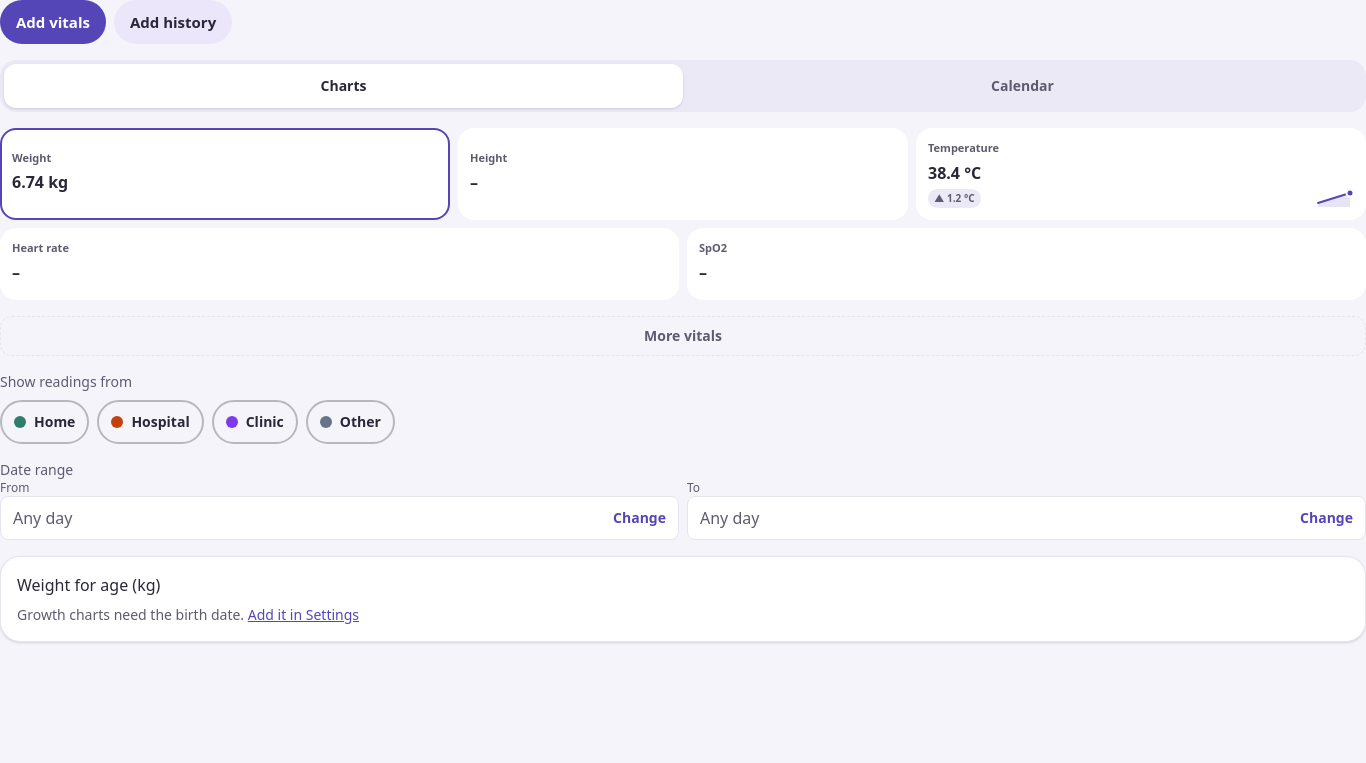
a measurement chip keeps only the days it was taken; a place chip hides that place
This screenshot has width=1366, height=763.
Click the radio button labelled "Calendar". click: [1022, 86]
box: [683, 64, 1362, 108]
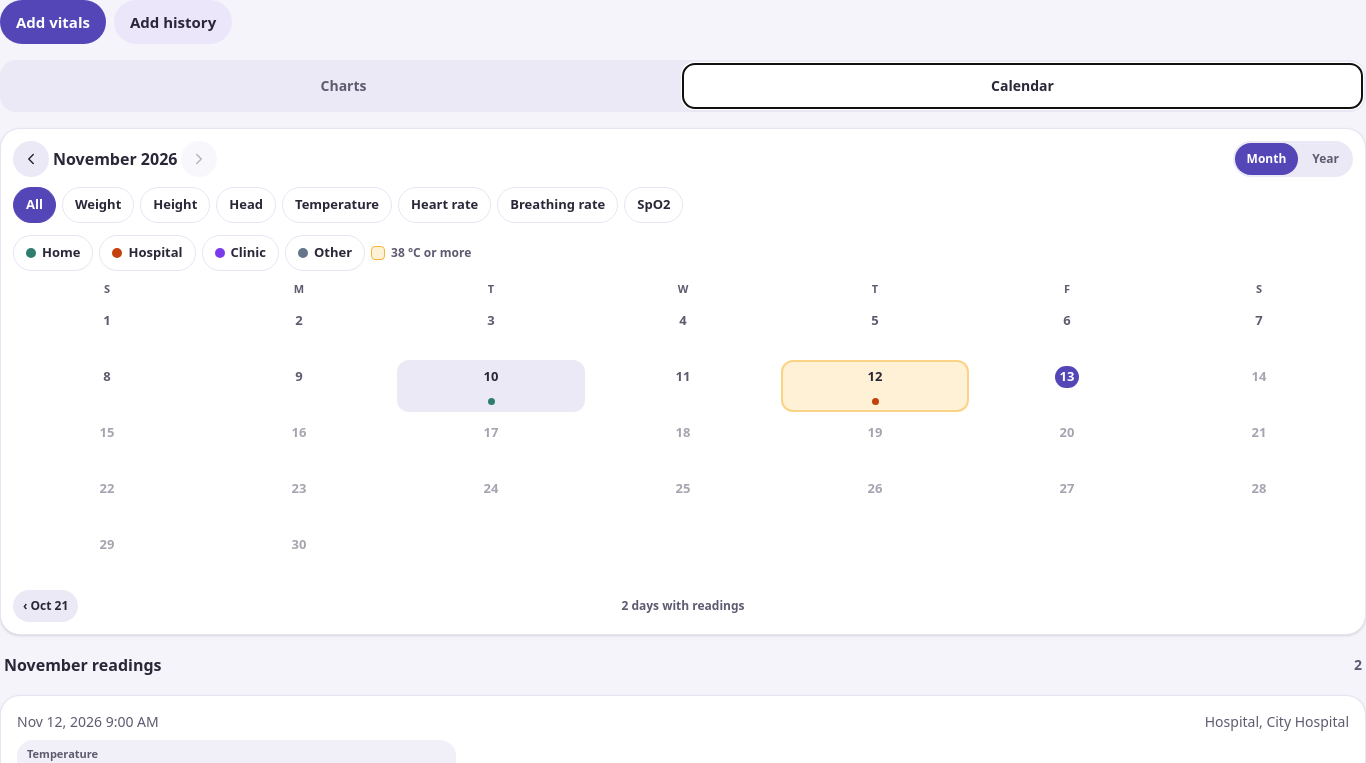
Click the button "Temperature". click: [337, 205]
box: [282, 187, 392, 223]
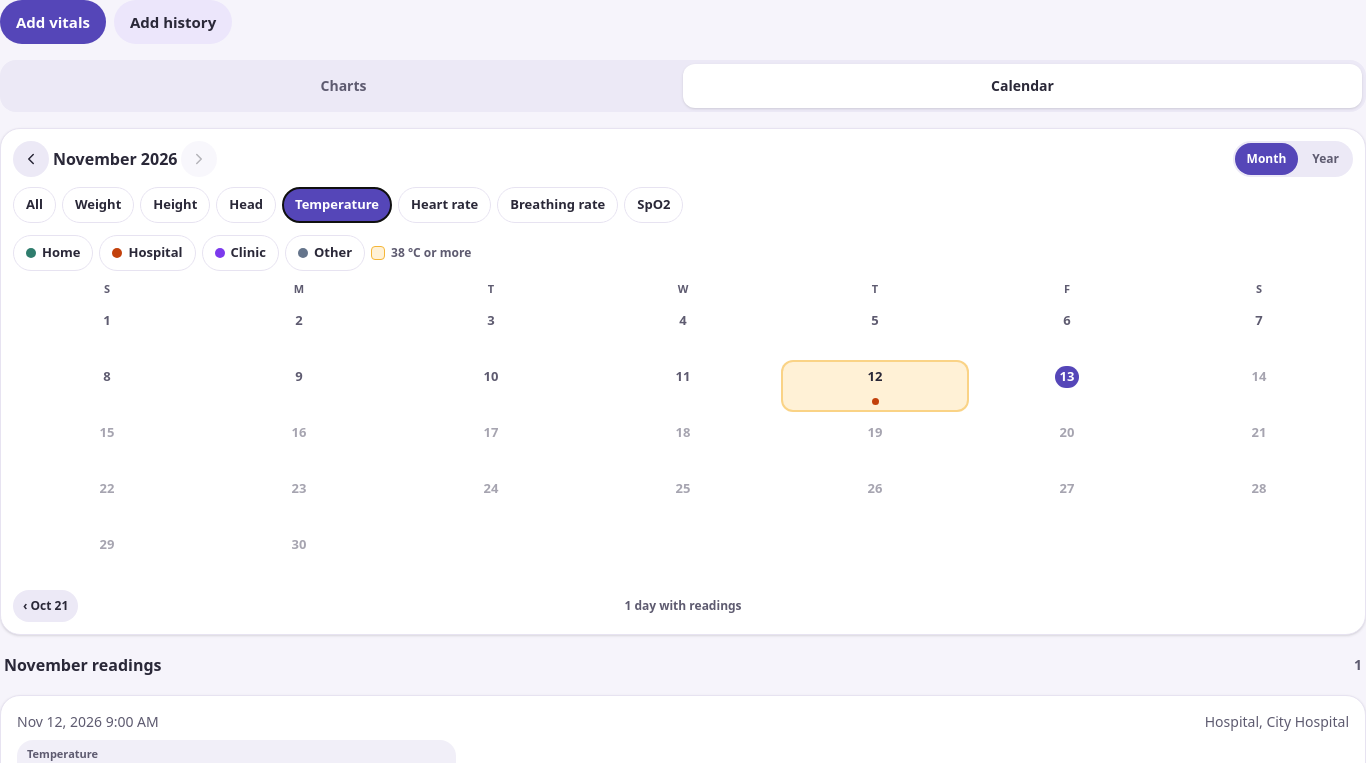
Click the button "All". click: [34, 205]
box: [13, 187, 56, 223]
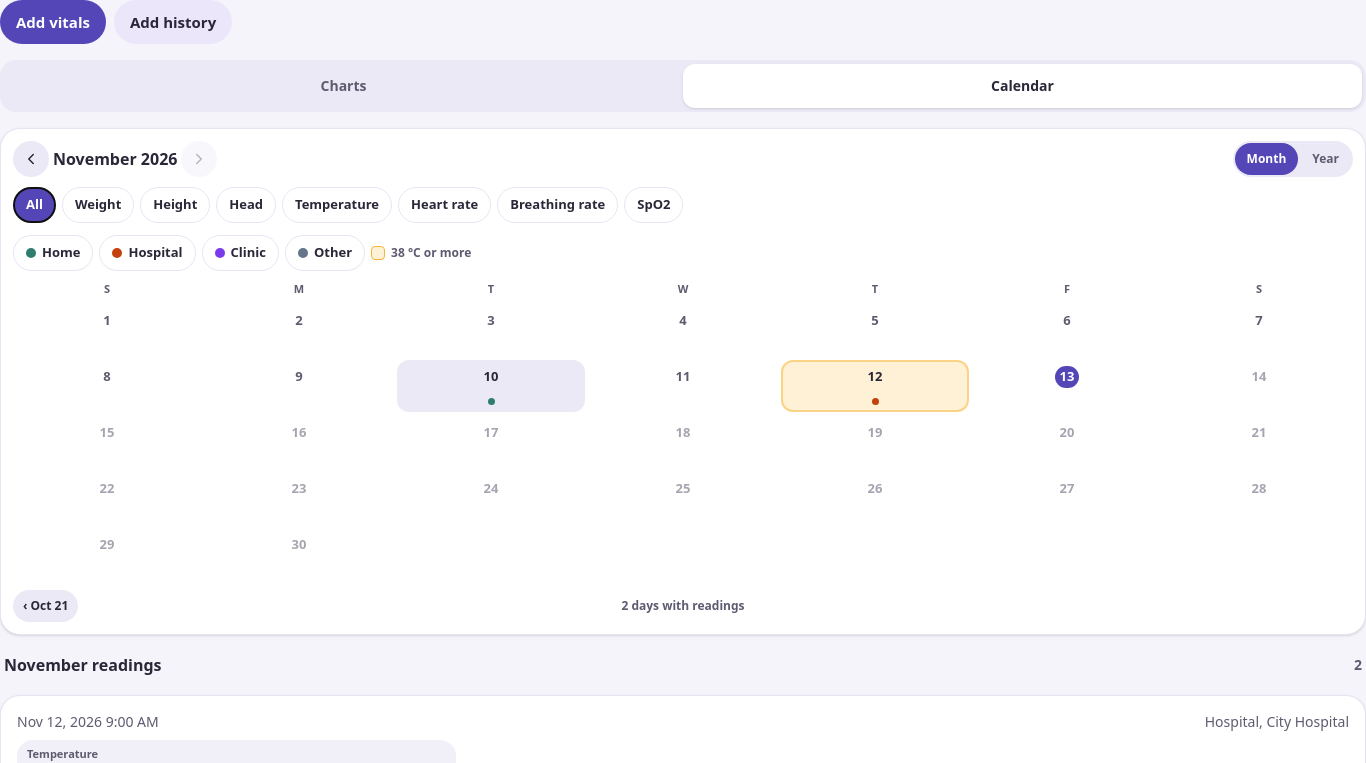
Click the button "Hospital". click: [148, 253]
box: [100, 235, 196, 271]
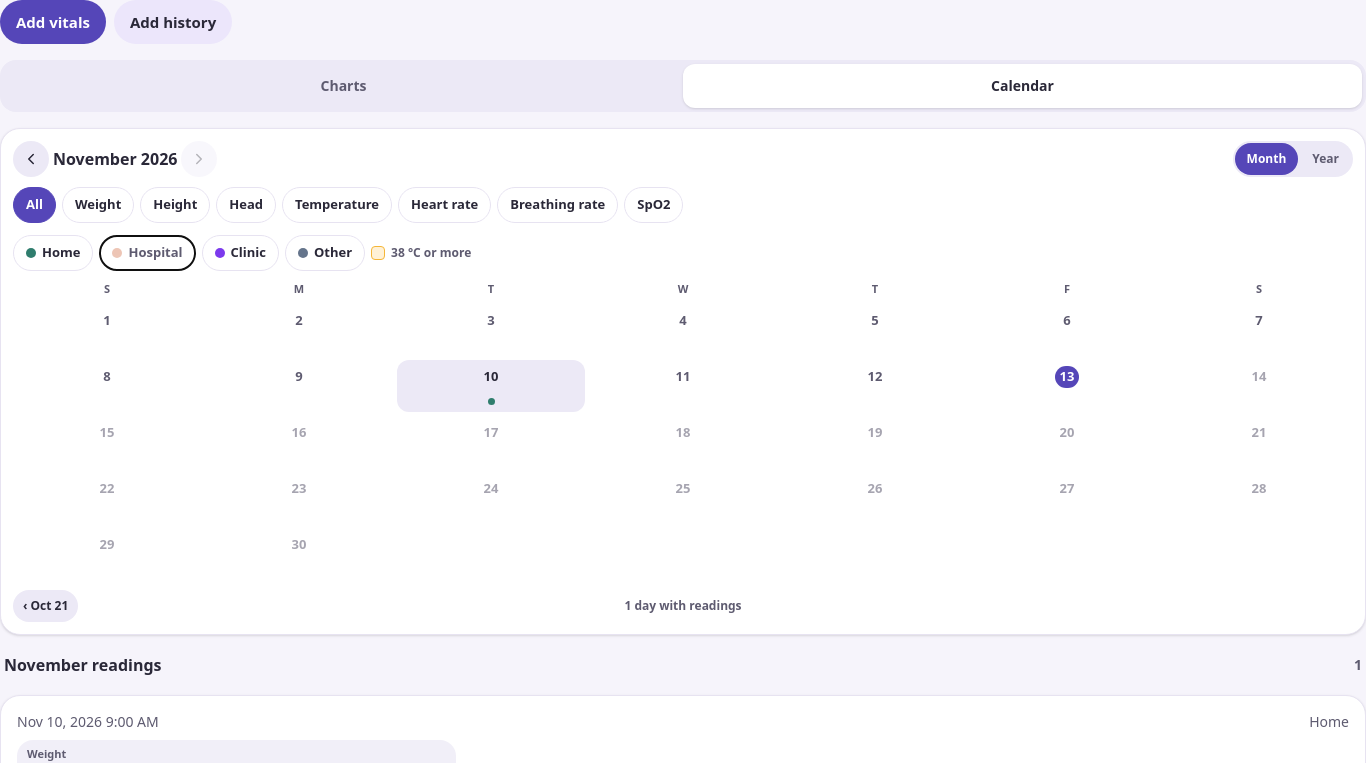
Check: the text "City Hospital" is gone
